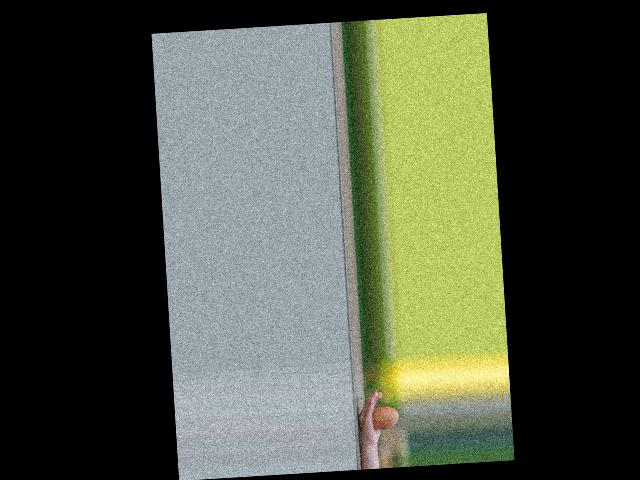egg: (371, 406, 399, 431)
